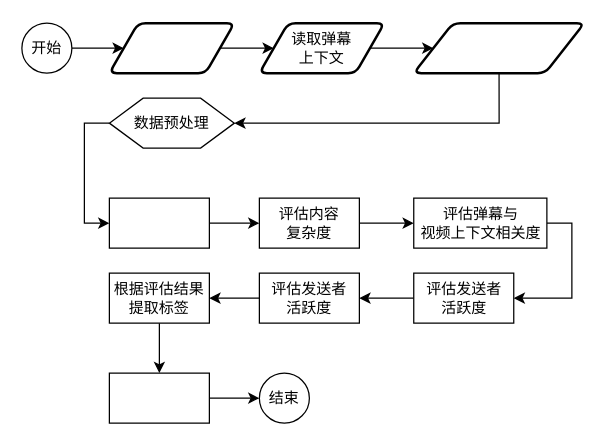
The diagram is 608 pixels wide and 445 high, and some of its shapes have lost their labels. Each missing label, with the box of its shape:
加载用户 行为属性标签: (412, 21, 585, 74)
提交任务结果: (108, 372, 209, 423)
评估弹幕 文本独特性: (108, 197, 209, 248)
读取用户 弹幕: (108, 21, 235, 74)
